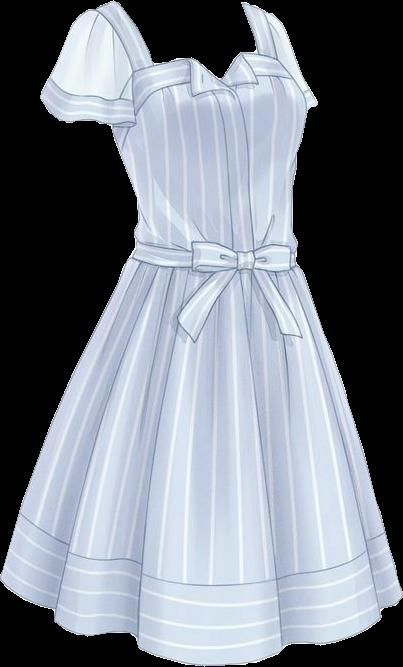Bodice: (97, 1, 309, 271)
Hemline: (0, 572, 402, 666)
Neckline: (114, 0, 261, 85), (135, 236, 297, 255)
Skirt: (0, 258, 402, 665)
Sleeve: (40, 6, 140, 126)
Sleeveline: (96, 7, 143, 106)
Waistline: (128, 253, 302, 274)
